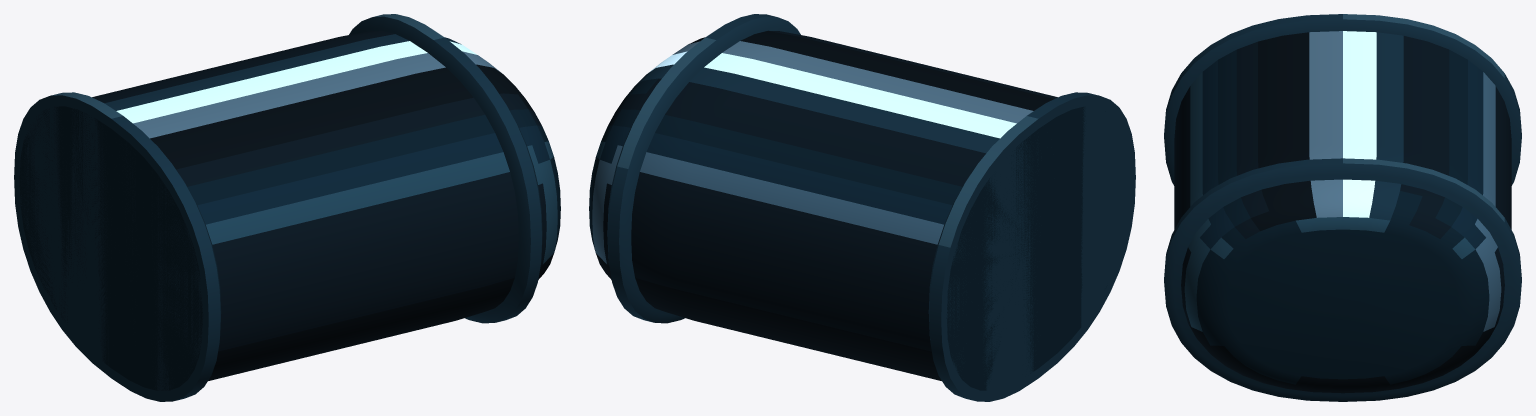
Rendered from maze_pipe_end_r.glb.
3 views of the same model, side by side, from view 1: azimuth 30°, elevation 25°; view 2: azimuth 150°, elevation 25°; view 3: azimuth 270°, elevation 25° (orthographic). The views are drawn at different scales.
Parts seen in each view (by area): view 1: end_r, collar24.0, cage_pipe, collar_r_end; view 2: end_r, collar24.0, cage_pipe, collar_r_end; view 3: end_r, collar_r_end, collar24.0.
Boxes of the visible parts, <box> form: end_r: <box>20,30,560,387</box>; collar24.0: <box>14,92,221,401</box>; cage_pipe: <box>19,106,203,390</box>; collar_r_end: <box>349,14,542,323</box>; end_r: <box>589,30,1081,387</box>; collar24.0: <box>928,92,1135,401</box>; cage_pipe: <box>946,106,1107,390</box>; collar_r_end: <box>607,14,800,323</box>; end_r: <box>1174,31,1511,393</box>; collar_r_end: <box>1164,158,1521,401</box>; collar24.0: <box>1164,14,1521,185</box>.
Bounding box in the file's own units: 24 × 15.6 × 21.2.
